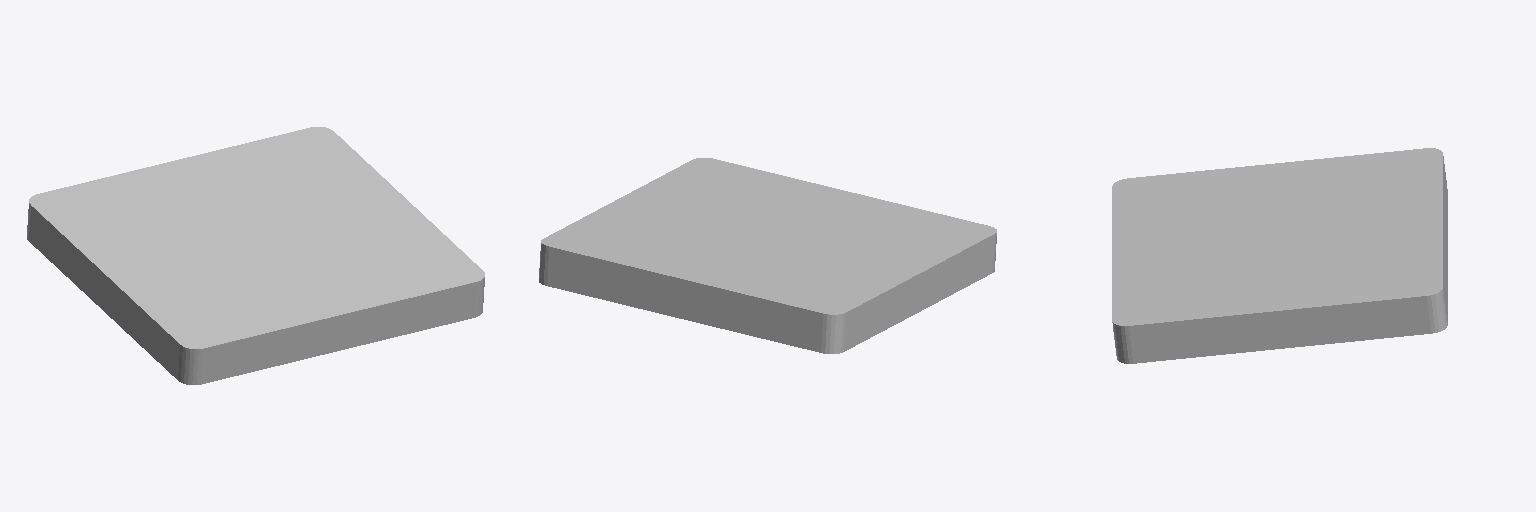
The model's file is original-21.obj.
3 renders of one model, left to right at view 1: azimuth 30°, elevation 25°; view 2: azimuth 150°, elevation 25°; view 3: azimuth 270°, elevation 25°, orthographic.
Visible parts, largest first — view 1: mesh20/mesh20-geometry#mesh20-geometry; view 2: mesh20/mesh20-geometry#mesh20-geometry; view 3: mesh20/mesh20-geometry#mesh20-geometry.
Boxes of the visible parts, <box> form: mesh20/mesh20-geometry#mesh20-geometry: <box>27,127,484,384</box>; mesh20/mesh20-geometry#mesh20-geometry: <box>539,158,996,353</box>; mesh20/mesh20-geometry#mesh20-geometry: <box>1112,148,1447,363</box>.
Bounding box in the file's own units: 0.1061 × 0.0238 × 0.1019.